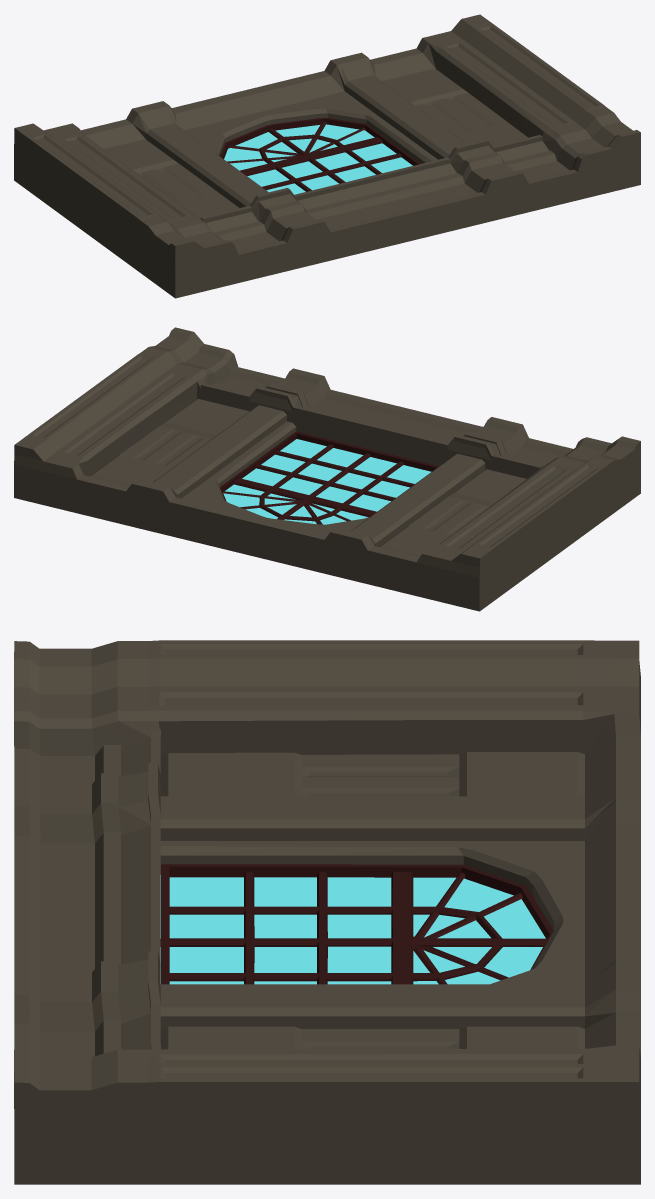
Rendered from FBX_MonoW.fbx.
3 views of the same model, one above another, from view 1: azimuth 30°, elevation 25°; view 2: azimuth 150°, elevation 25°; view 3: azimuth 270°, elevation 25° (orthographic). The views are drawn at different scales.
Visible parts, largest first — view 1: P_F_MonoW; view 2: P_F_MonoW; view 3: P_F_MonoW.
Boxes of the visible parts, x1=… form: P_F_MonoW: x1=14, y1=14, x2=640, y2=298; P_F_MonoW: x1=14, y1=327, x2=640, y2=611; P_F_MonoW: x1=14, y1=640, x2=640, y2=1184.
Bounding box in the file's own units: 650 × 70.5 × 390.
